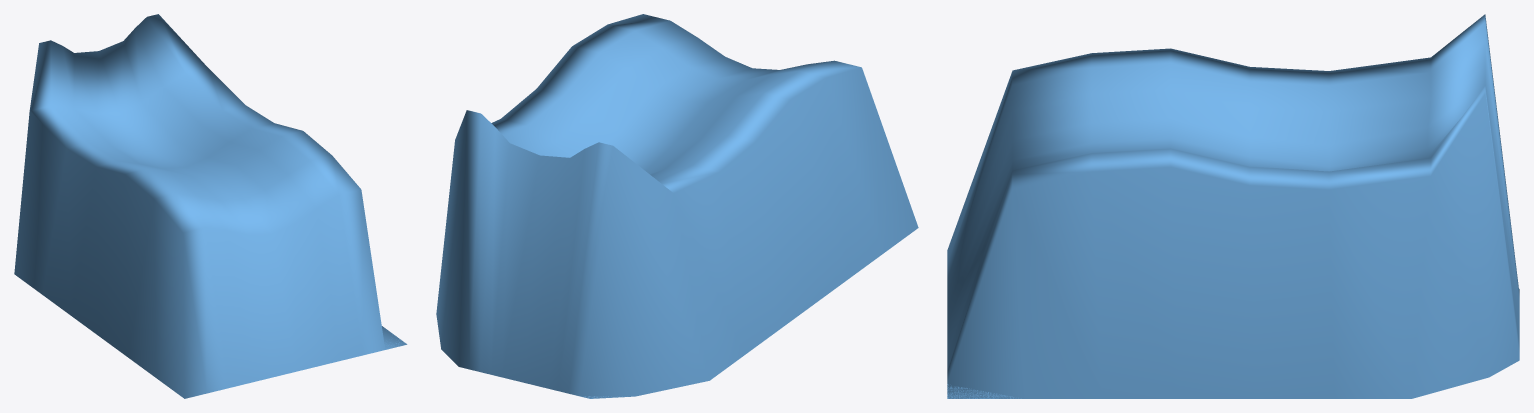
Rendered from Sliverman.obj.
3 renders of one model, left to right at view 1: azimuth 30°, elevation 25°; view 2: azimuth 150°, elevation 25°; view 3: azimuth 270°, elevation 25°, orthographic. The views are drawn at different scales.
Visible parts, largest first — view 1: size_a; view 2: size_a; view 3: size_a.
Boxes of the visible parts, x1,y1,x2,y2 form: size_a: (14,14,407,398); size_a: (436,14,918,398); size_a: (947,14,1519,398).
Bounding box in the file's own units: 1.29 × 1.1 × 2.11.
